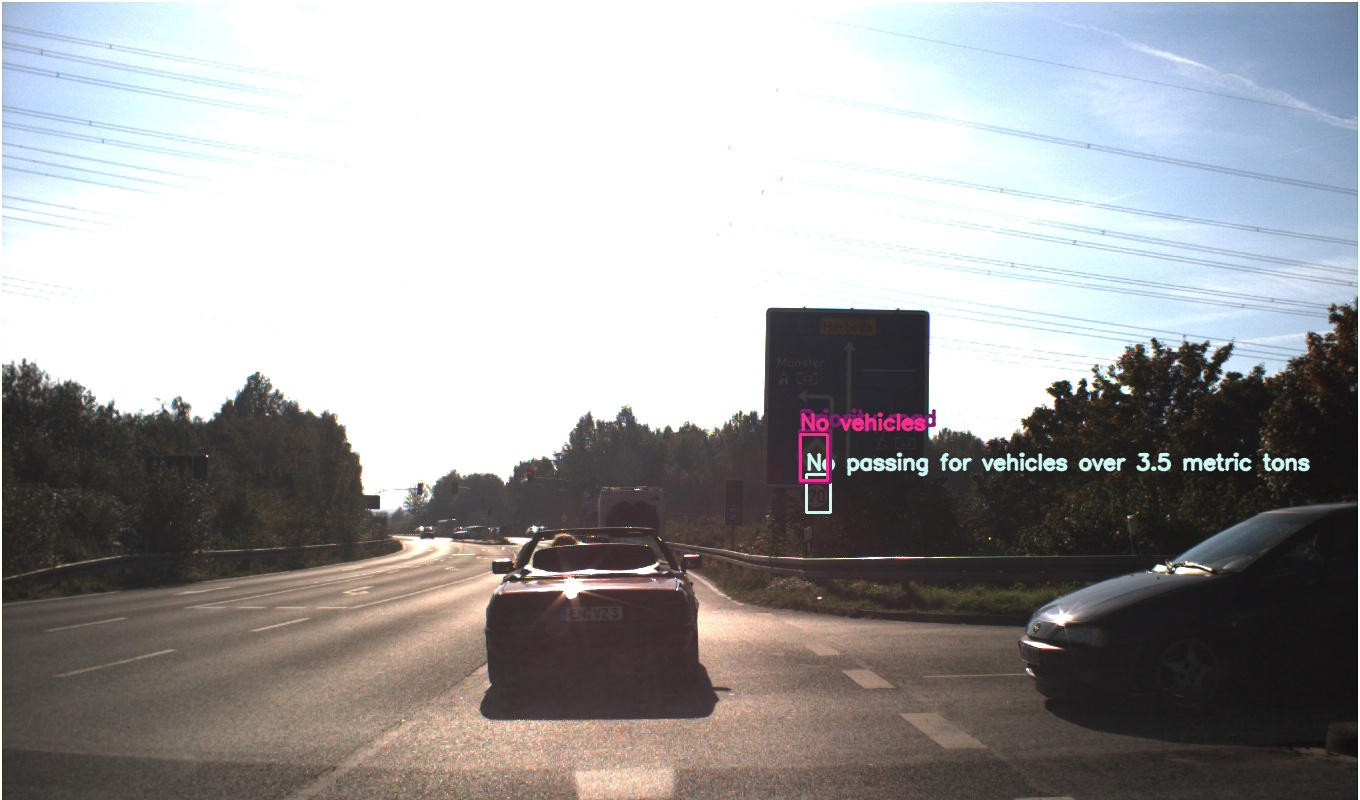Priority road: (597, 456, 628, 488)
Road work: (763, 426, 812, 473)
